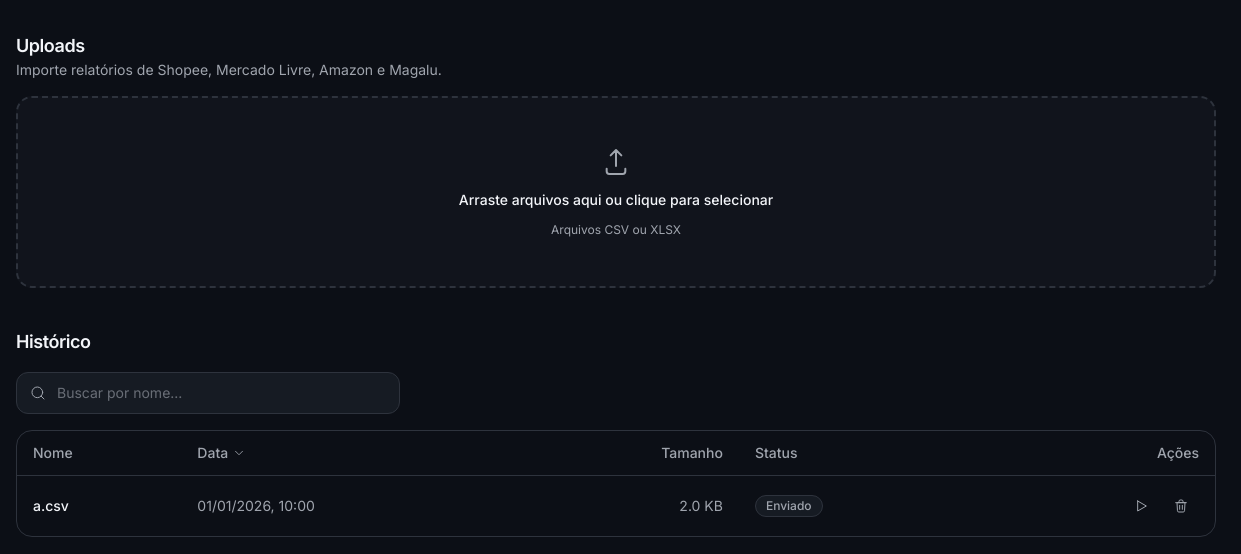
Test: UploadsPage › shows a generic error toast when the process request itself fails
This screenshot has width=1241, height=554.
Expected: the link "a.csv" is shown, [33,497,69,514]
Click the button named "Processar a.csv" at (1141, 506), box [1123,488,1159,524]
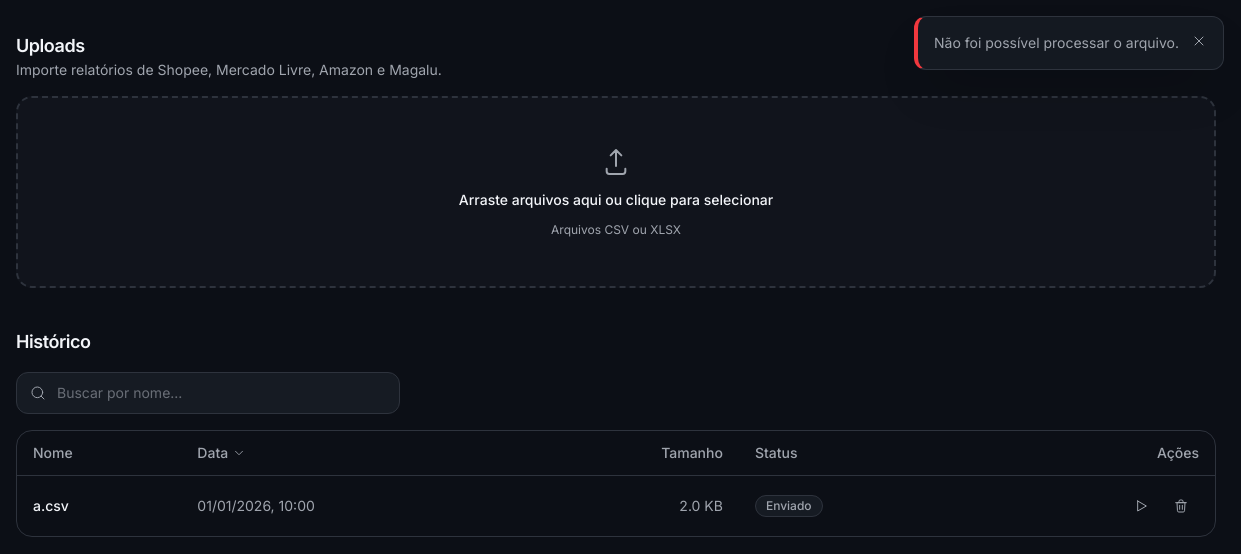
Now the text "Não foi possível processar o arquivo." is shown, box [934,33,1179,53]
